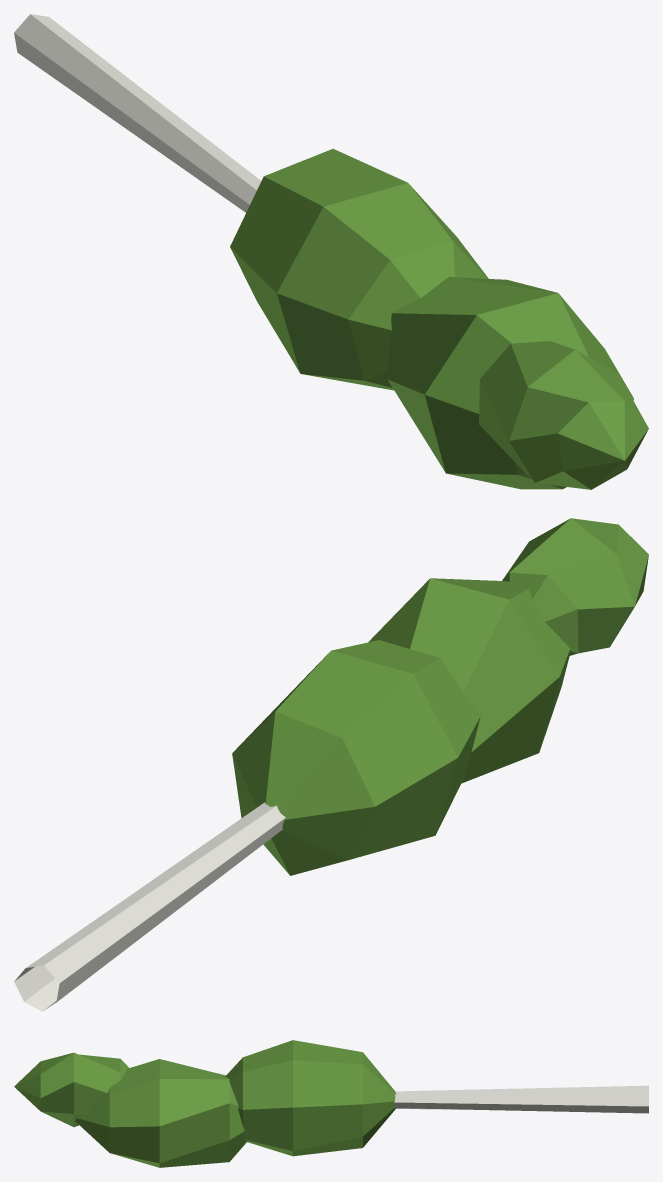
File: grown.glb
The picture shows the model from 3 angles, top to bottom: view 1: azimuth 30°, elevation 25°; view 2: azimuth 150°, elevation 25°; view 3: azimuth 270°, elevation 25°; orthographic projection. The views are drawn at different scales.
Parts seen in each view (by area): view 1: tree_03_grown; view 2: tree_03_grown; view 3: tree_03_grown.
Part boxes in pixels (x1,y1,x2,y2): tree_03_grown: (14, 14, 648, 489); tree_03_grown: (14, 518, 648, 1011); tree_03_grown: (14, 1040, 648, 1167).
Bounding box in the file's own units: 7.82 × 7.8 × 40.34.
